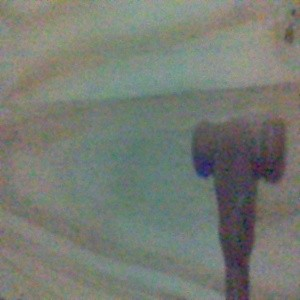palu: (189, 116, 288, 300)
